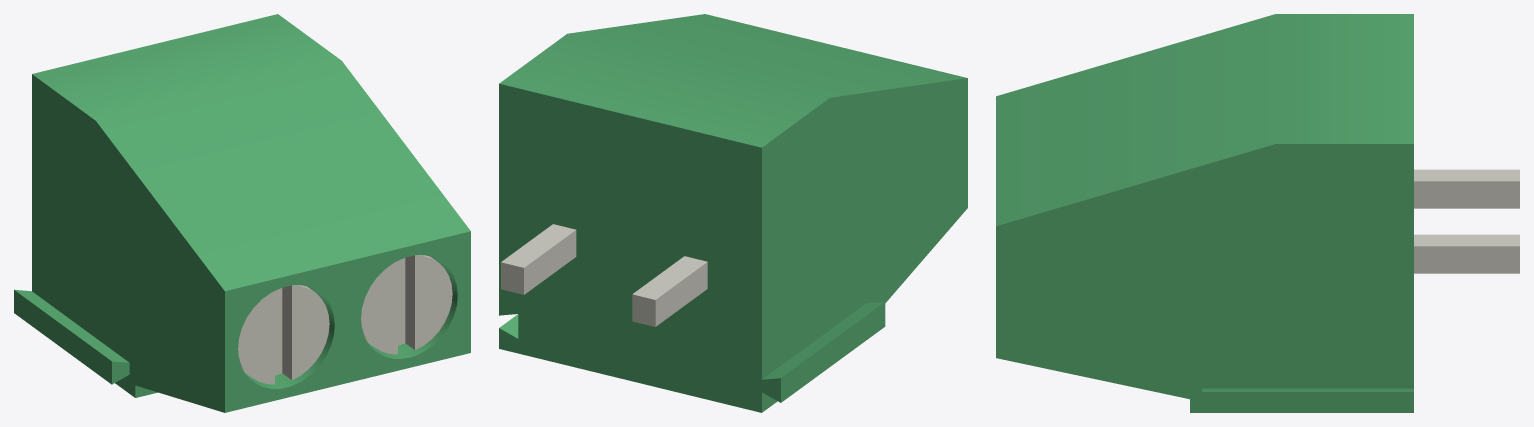
The model's file is terminal-2-p5.08.glb.
The picture shows the model from 3 angles, left to right: view 1: azimuth 30°, elevation 25°; view 2: azimuth 150°, elevation 25°; view 3: azimuth 270°, elevation 25°; orthographic projection. The views are drawn at different scales.
Visible parts, largest first — view 1: PLASTIC-GREEN-01, PIN-01; view 2: PLASTIC-GREEN-01, PIN-01; view 3: PLASTIC-GREEN-01, PIN-01.
Boxes of the visible parts, bbox=[...] form: PLASTIC-GREEN-01: bbox=[14, 14, 470, 412]; PIN-01: bbox=[238, 255, 452, 384]; PLASTIC-GREEN-01: bbox=[499, 14, 967, 412]; PIN-01: bbox=[501, 224, 707, 326]; PLASTIC-GREEN-01: bbox=[996, 14, 1413, 412]; PIN-01: bbox=[1414, 169, 1519, 273].
Size of the model in its own units: 10.9 by 9.8 by 17.3.
